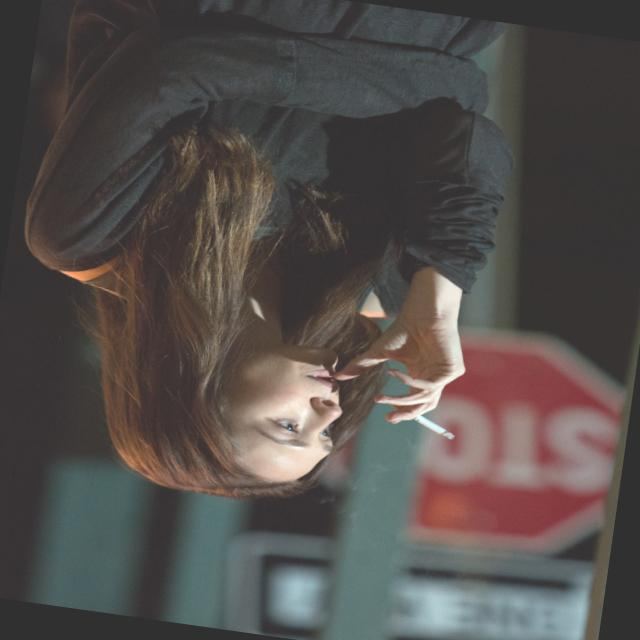cigarette: (377, 394, 471, 466)
